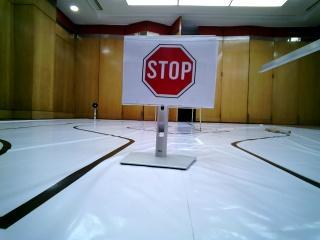stop: (133, 39, 203, 103)
